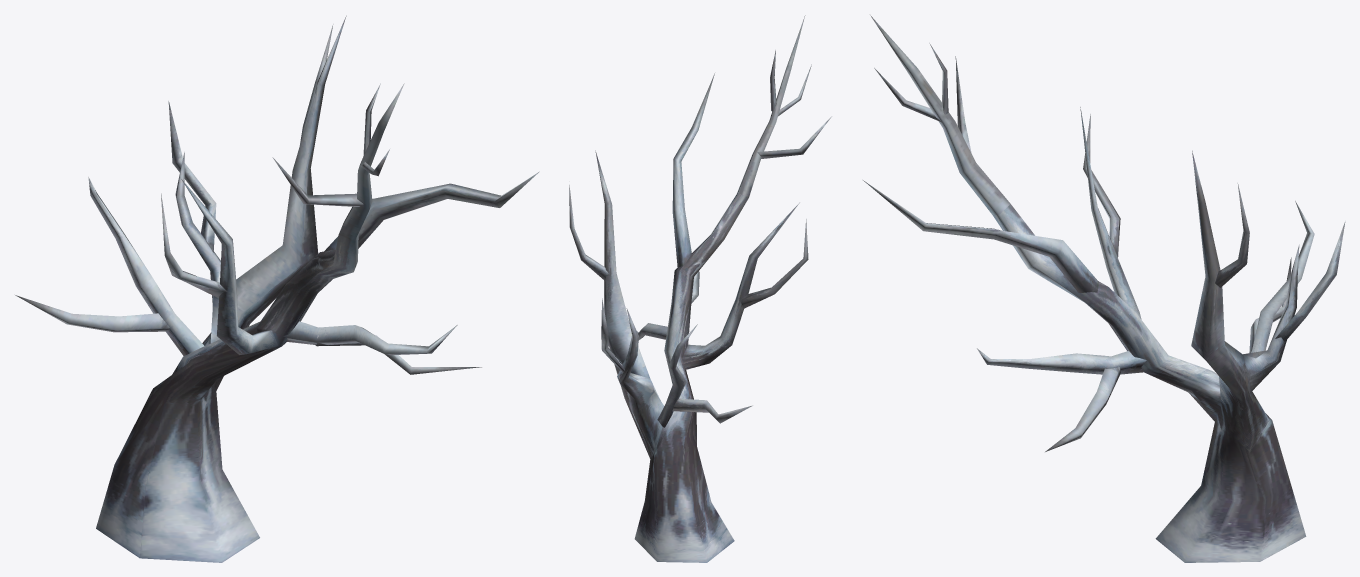
File: SM_Dead_tree_06.fbx
3 renders of one model, left to right at view 1: azimuth 30°, elevation 25°; view 2: azimuth 150°, elevation 25°; view 3: azimuth 270°, elevation 25°, orthographic. The views are drawn at different scales.
Parts seen in each view (by area): view 1: SM_Dead_tree_06; view 2: SM_Dead_tree_06; view 3: SM_Dead_tree_06.
Part boxes in pixels (left/top/right/bottom): SM_Dead_tree_06: left=15, top=15, right=539, bottom=562; SM_Dead_tree_06: left=569, top=15, right=831, bottom=562; SM_Dead_tree_06: left=863, top=15, right=1345, bottom=562.
Size of the model in its own units: 4.11 by 6.96 by 5.7.
